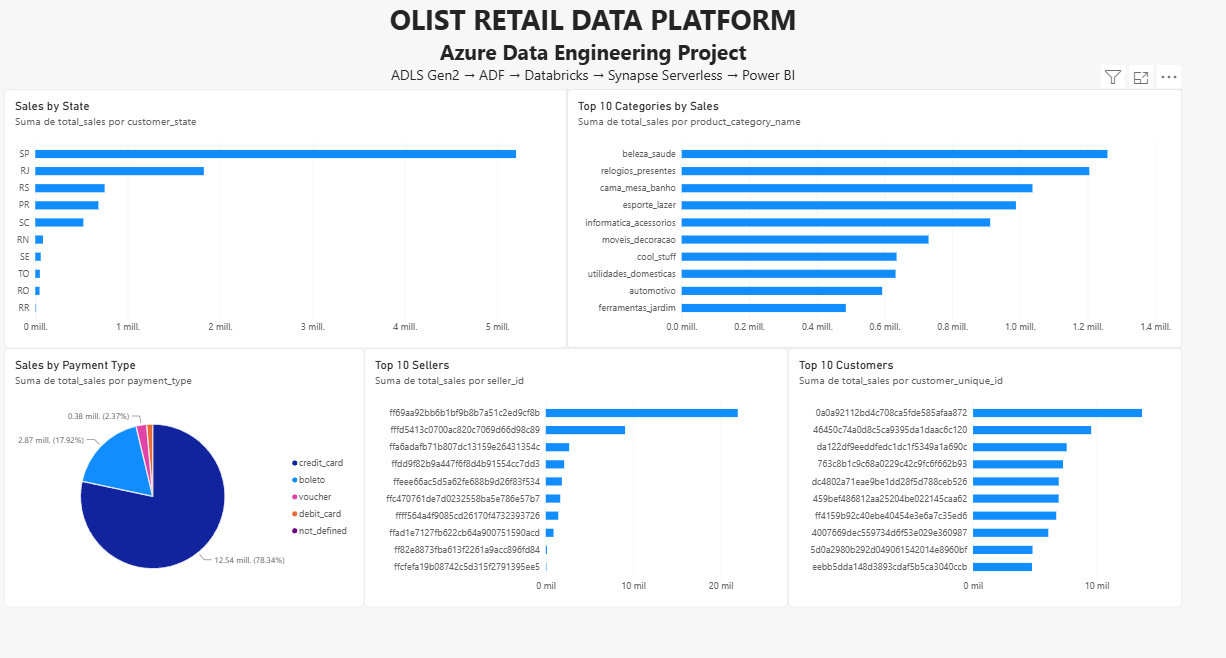

What the dashboard file says about the page in this screenshot:
{"tool":"powerbi","page":{"name":"Página 1","canvas":[1920,1080],"ordinal":0},"visuals":[{"type":"clusteredBarChart","title":"Sales by State","fields":{"Category":["sales_by_state.customer_state"],"Y":["Sum(sales_by_state.total_sales)"]},"box":[10.7,137.1,864.1,397.5],"z":0},{"type":"clusteredBarChart","title":"Top 10 Categories by Sales","fields":{"Category":["sales_by_category.product_category_name"],"Y":["Sum(sales_by_category.total_sales)"]},"box":[874.8,137.1,943.9,397.5],"z":1000},{"type":"pieChart","title":"Sales by Payment Type","fields":{"Category":["sales_by_payment_type.payment_type"],"Y":["Sum(sales_by_payment_type.total_sales)"]},"box":[10.7,534.6,552.5,397.5],"z":2000},{"type":"clusteredBarChart","title":"Top 10 Sellers","fields":{"Category":["top_sellers.seller_id"],"Y":["Sum(top_sellers.total_sales)"]},"box":[563.3,534.6,650.7,397.5],"z":3000},{"type":"clusteredBarChart","title":"Top 10 Customers","fields":{"Category":["top_customers.customer_unique_id"],"Y":["Sum(top_customers.total_sales)"]},"box":[1214,534.6,604.7,397.5],"z":4000},{"type":"textbox","box":[10.7,0,1808,135.1],"z":6000}]}

Visuals, with their boxes on the page's 1920x1080 design canvas (x1, y1, x2, y2). These are canvas units, not pixel positions in the 1226x658 screenshot, which may show the page scaled, cropped or inside an application window:
"Sales by State" clusteredBarChart: 11 137 875 535
"Top 10 Categories by Sales" clusteredBarChart: 875 137 1819 535
"Sales by Payment Type" pieChart: 11 535 563 932
"Top 10 Sellers" clusteredBarChart: 563 535 1214 932
"Top 10 Customers" clusteredBarChart: 1214 535 1819 932
textbox: 11 0 1819 135
